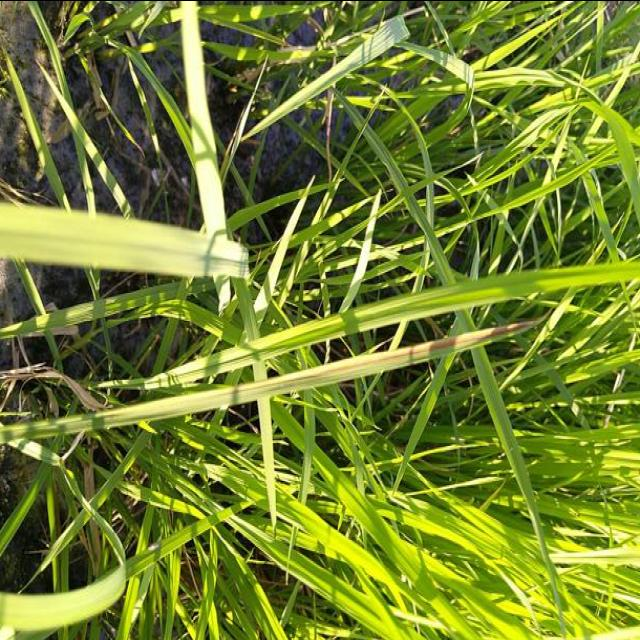Leaf Streak: (0, 319, 534, 442)
